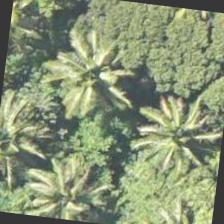Kelapa_Sawit: (49, 19, 149, 119), (0, 145, 97, 222), (153, 88, 223, 186)
